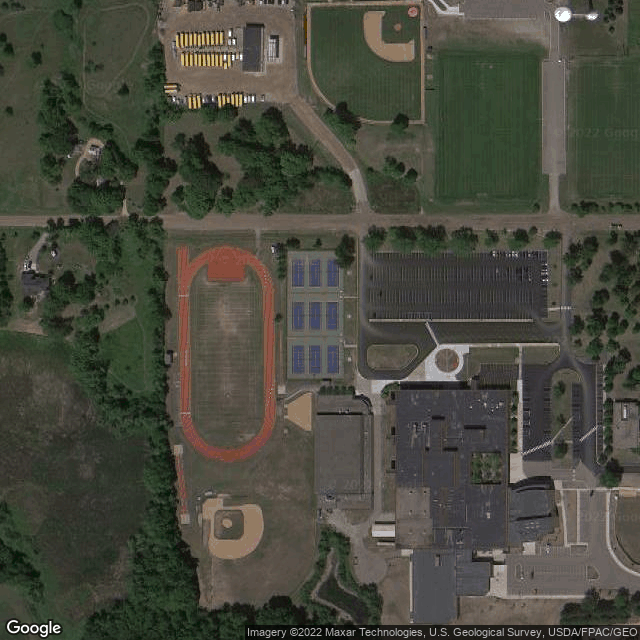Court: (291, 258, 306, 288), (325, 256, 339, 288), (292, 300, 306, 331), (308, 345, 322, 374), (326, 346, 340, 375), (326, 300, 339, 331), (309, 301, 322, 331), (292, 345, 305, 374), (309, 259, 321, 288)
